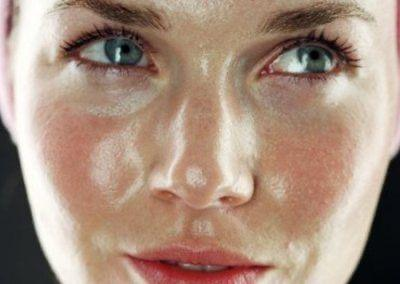Oily-Skin: (26, 82, 145, 236), (259, 104, 366, 243), (181, 9, 236, 194)
